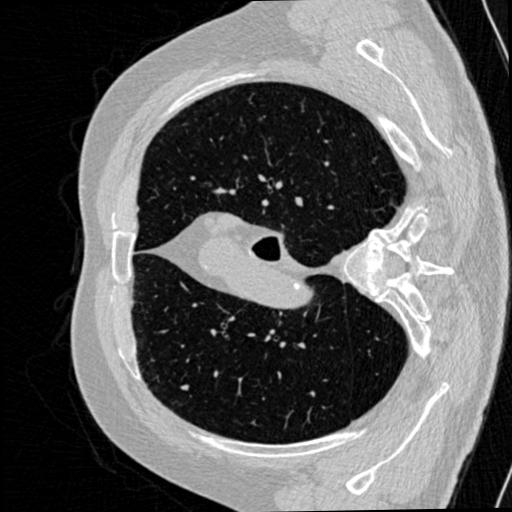nodule: (179, 381, 191, 393)
